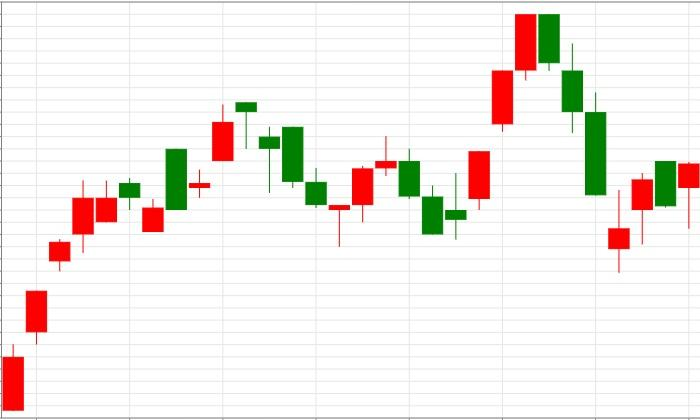three_white_soldiers_rise: (375, 14, 536, 240)
